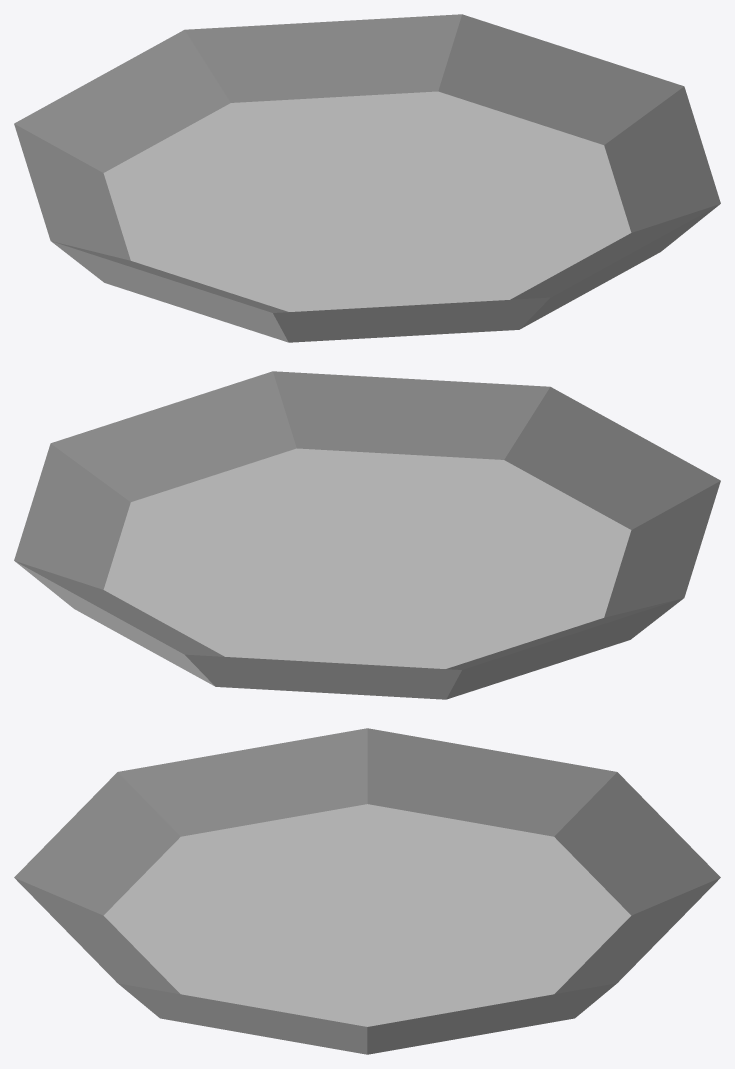
The model's file is Plate.fbx.
The picture shows the model from 3 angles, top to bottom: view 1: azimuth 30°, elevation 25°; view 2: azimuth 150°, elevation 25°; view 3: azimuth 270°, elevation 25°; orthographic projection. The views are drawn at different scales.
Parts seen in each view (by area): view 1: Plate; view 2: Plate; view 3: Plate.
Boxes of the visible parts, x1,y1,x2,y2 form: Plate: (14,14,720,342); Plate: (14,371,720,699); Plate: (14,728,720,1054).
Bounding box in the file's own units: 33.73 × 2.8 × 33.73.
